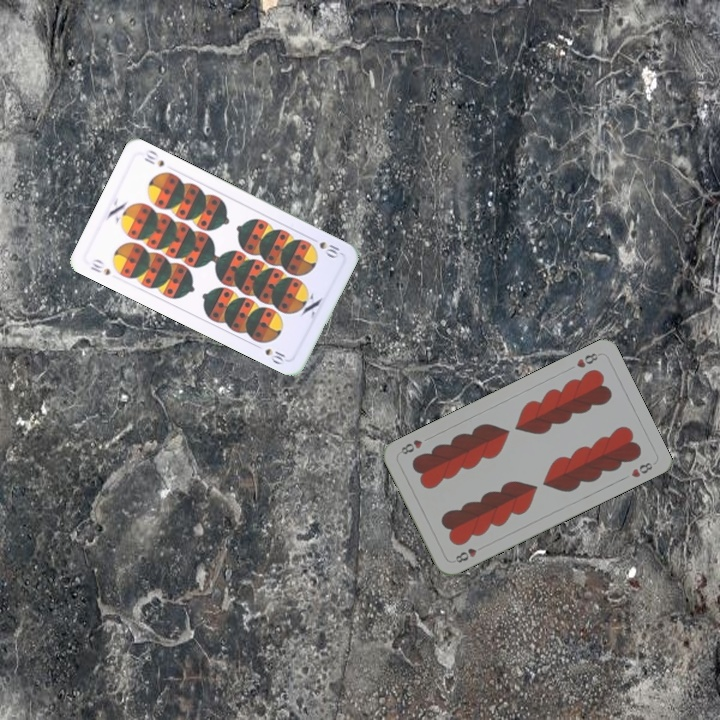H8: (451, 541, 487, 565), (572, 349, 603, 370)
S10: (315, 237, 344, 261), (86, 255, 113, 278)
